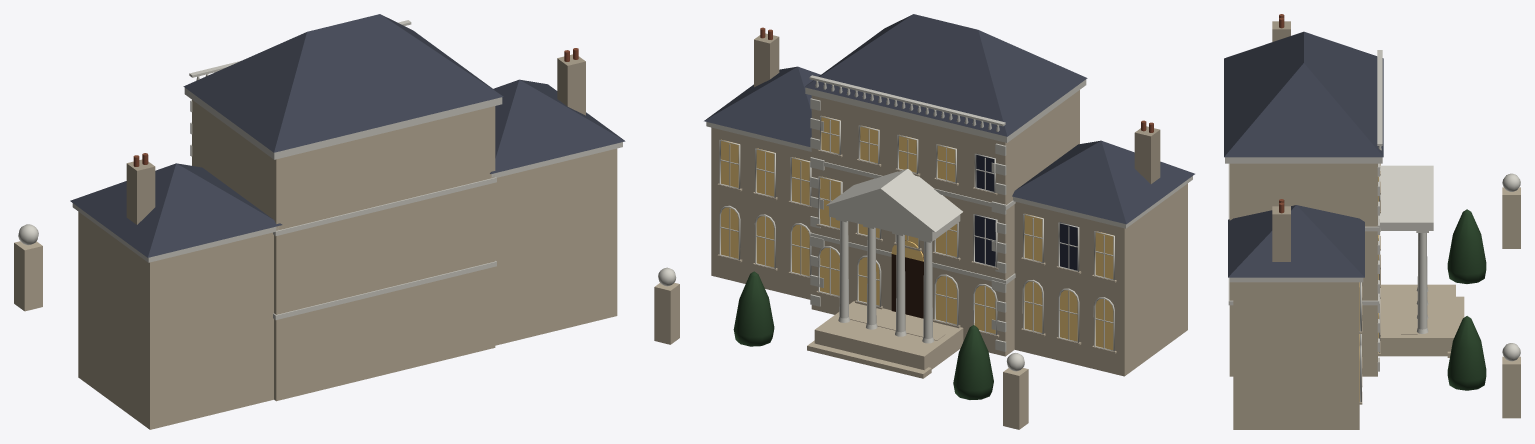
The model's file is archeron_manor.glb.
3 renders of one model, left to right at view 1: azimuth 30°, elevation 25°; view 2: azimuth 150°, elevation 25°; view 3: azimuth 270°, elevation 25°, orthographic. The views are drawn at different scales.
Visible parts, largest first — view 1: archeron_manor; view 2: archeron_manor; view 3: archeron_manor.
Part boxes in pixels (x1,y1,x2,y2): archeron_manor: (14, 14, 625, 429); archeron_manor: (654, 14, 1194, 429); archeron_manor: (1224, 14, 1520, 429).
Size of the model in its own units: 13.1 by 8.4 by 8.
